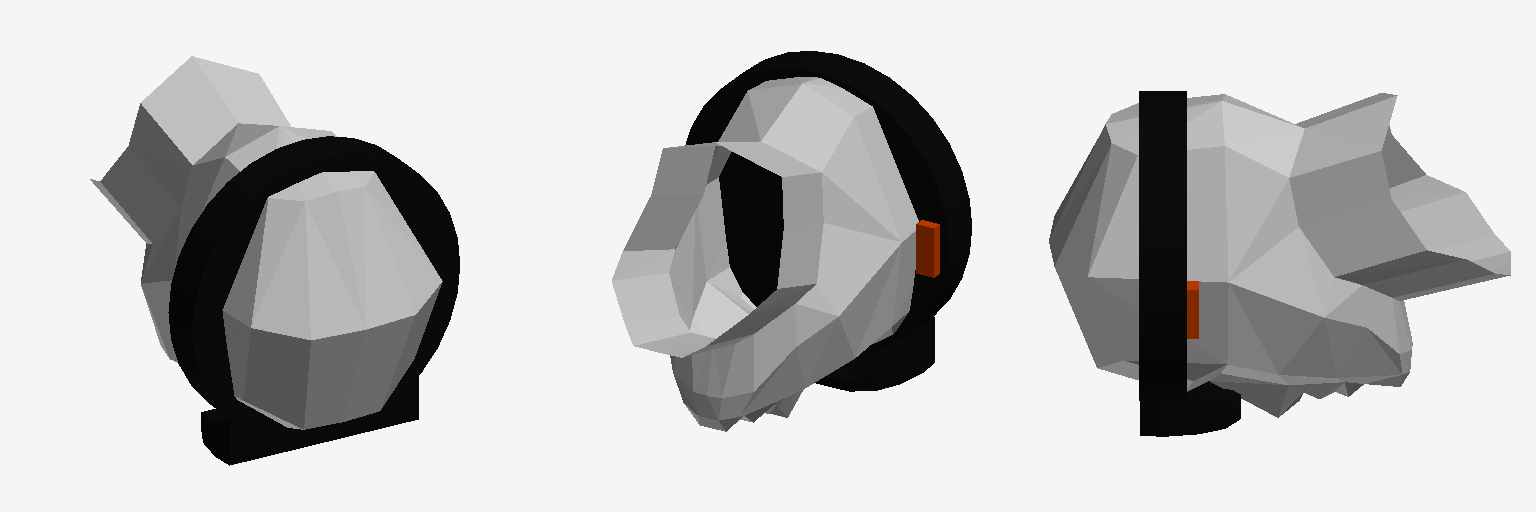
Rendered from hololens.obj.
3 views of the same model, side by side, from view 1: azimuth 30°, elevation 25°; view 2: azimuth 150°, elevation 25°; view 3: azimuth 270°, elevation 25° (orthographic).
Parts seen in each view (by area): view 1: Plane.011_Plane.022, Hololens_Cylinder, Visor_Cube.002; view 2: Plane.011_Plane.022, Hololens_Cylinder, Visor_Cube.002, Cube.000_Cube.005; view 3: Plane.011_Plane.022, Hololens_Cylinder, Visor_Cube.002, Cube.001_Cube.004.
Part boxes in pixels (x1,y1,x2,y2): Plane.011_Plane.022: (90, 56, 442, 429); Hololens_Cylinder: (168, 136, 459, 441); Visor_Cube.002: (201, 376, 418, 465); Plane.011_Plane.022: (612, 77, 918, 431); Hololens_Cylinder: (685, 51, 971, 354); Visor_Cube.002: (815, 317, 934, 391); Cube.000_Cube.005: (916, 220, 939, 277); Plane.011_Plane.022: (1049, 93, 1510, 417); Hololens_Cylinder: (1139, 91, 1186, 400); Visor_Cube.002: (1140, 381, 1240, 436); Cube.001_Cube.004: (1187, 281, 1198, 338).
Size of the model in its own units: 5.19 by 5.85 by 7.75.